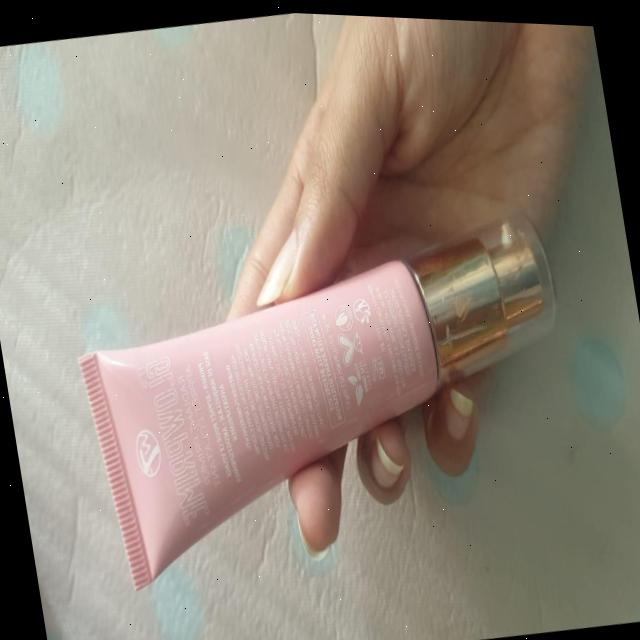foundation: (50, 150, 612, 621)
